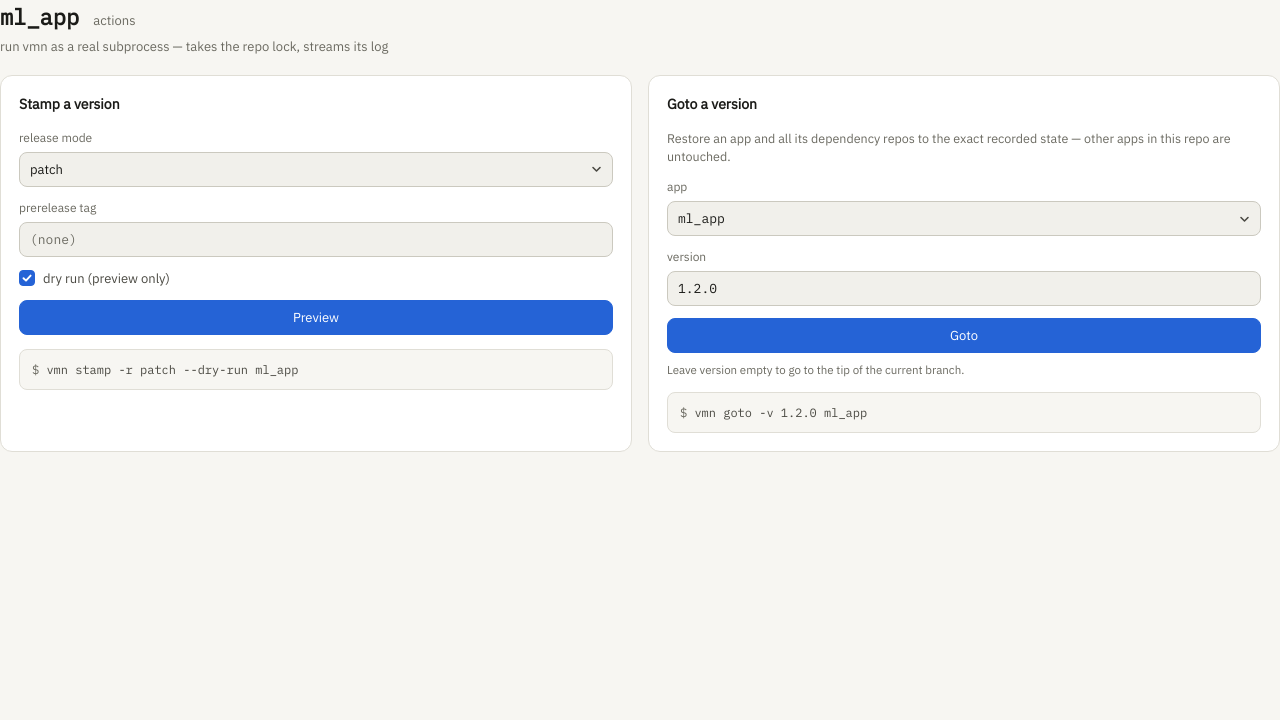
Test case: Actions goto confirmation › opens a confirm dialog with the command instead of running goto
This screenshot has width=1280, height=720.
Click the button "Goto" at (964, 336), box [667, 318, 1261, 353]
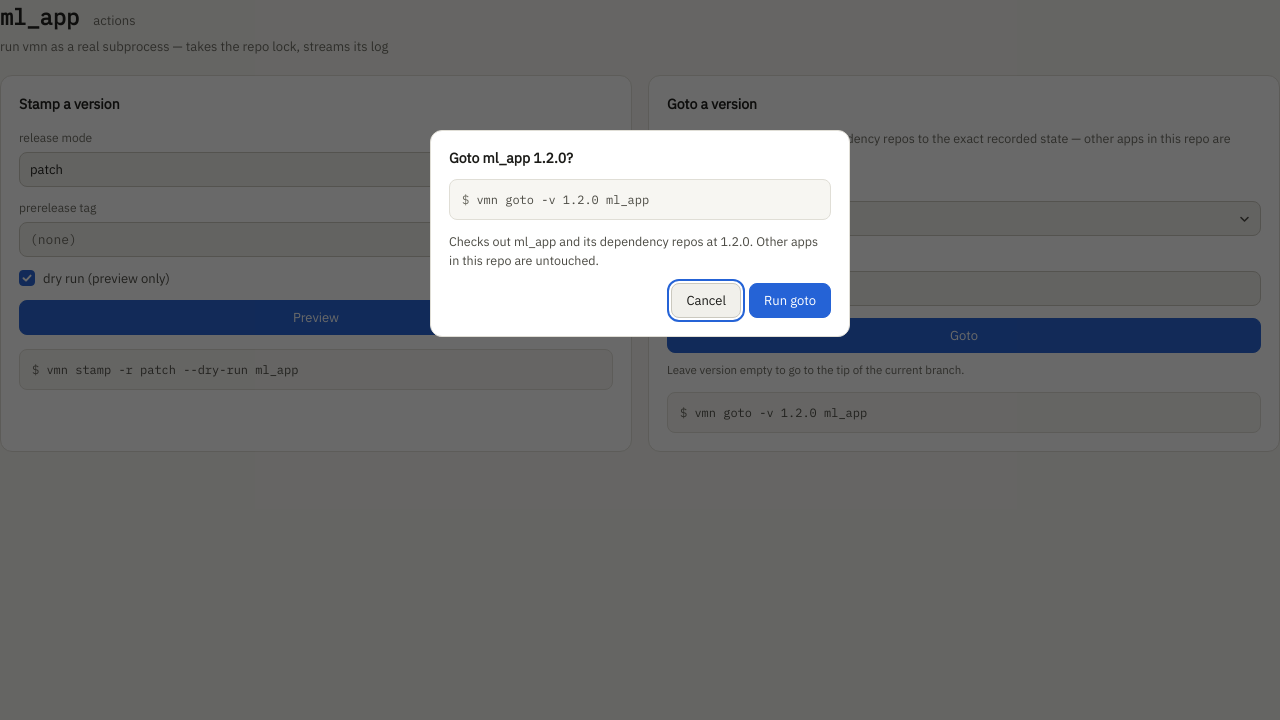
Check: the text "vmn goto -v 1.2.0 ml_app" is shown, box [449, 179, 831, 220]
Check: the text "other apps in this repo are untouched" is shown, box [449, 233, 818, 268]
